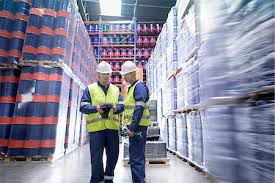Person_wearing_helmet: (89, 56, 113, 77)
